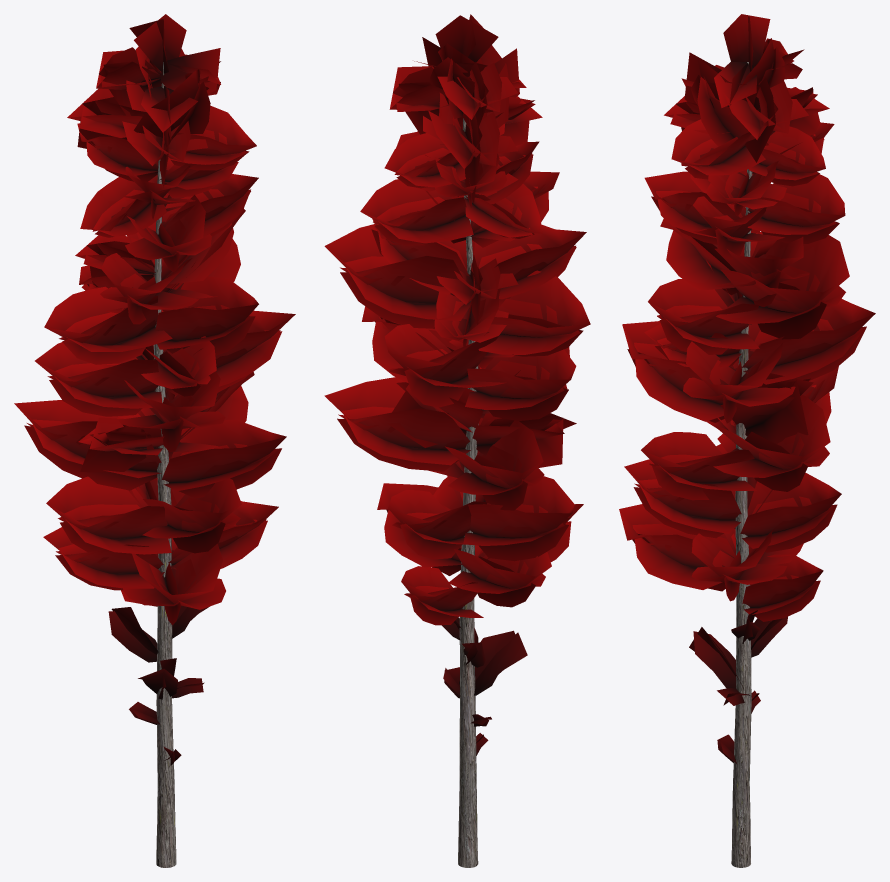
Rendered from SM_PineTree_D.FBX.
3 views of the same model, side by side, from view 1: azimuth 30°, elevation 25°; view 2: azimuth 150°, elevation 25°; view 3: azimuth 270°, elevation 25° (orthographic).
Visible parts, largest first — view 1: Canopy, Trunk; view 2: Canopy, Trunk; view 3: Canopy, Trunk.
Boxes of the visible parts, x1,y1,x2,y2 form: Canopy: (14,14,295,765); Trunk: (153,62,176,867); Canopy: (324,14,590,755); Trunk: (458,118,478,867); Canopy: (619,14,875,764); Trunk: (731,62,752,867).
Size of what is drawn, in the model's own units: 128 by 437 by 120.
